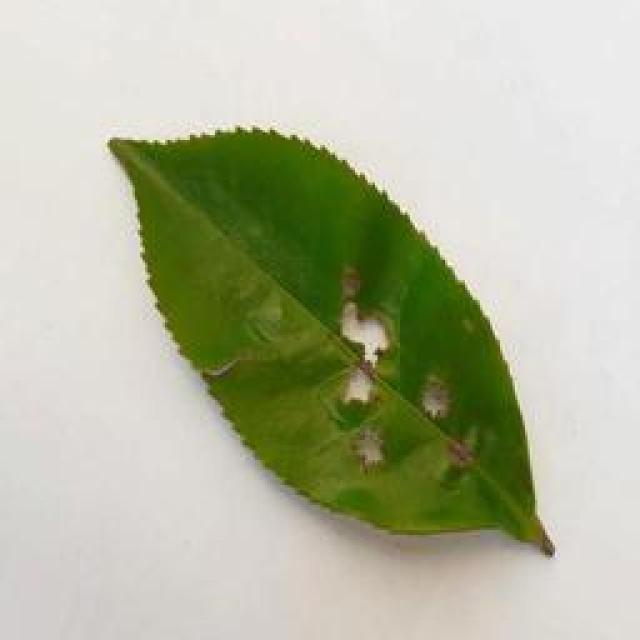Helopeltis: (103, 120, 561, 560)
